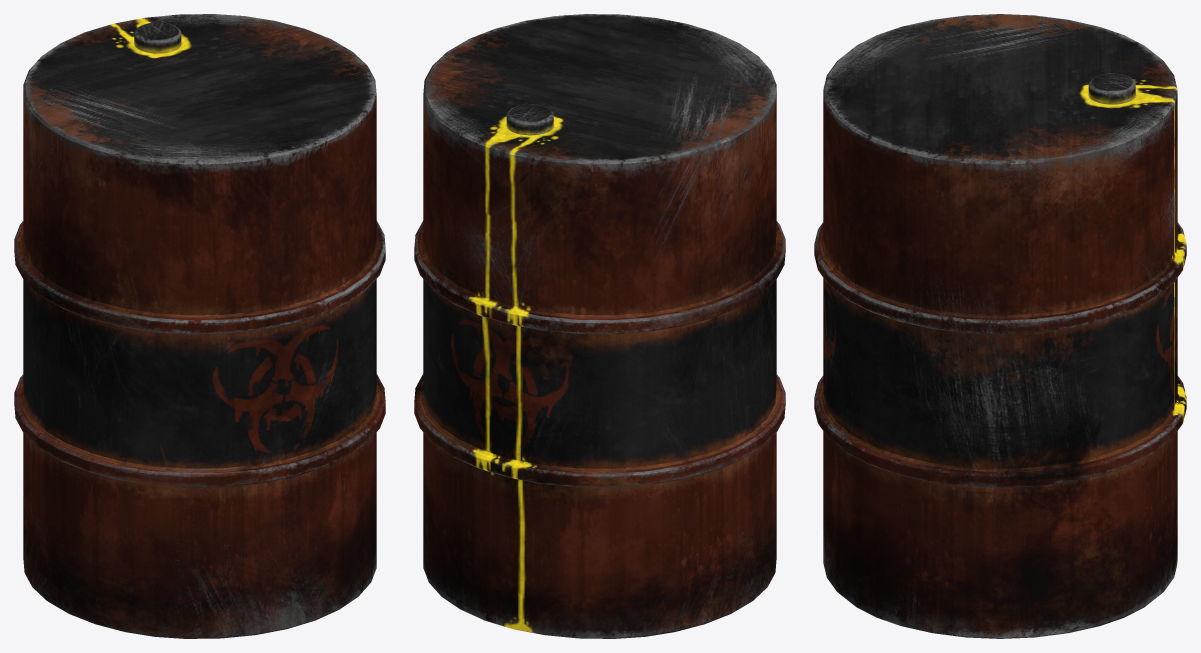
Rendered from rusty_barrel.glb.
3 renders of one model, left to right at view 1: azimuth 30°, elevation 25°; view 2: azimuth 150°, elevation 25°; view 3: azimuth 270°, elevation 25°, orthographic.
Visible parts, largest first — view 1: Barrel Bake_0; view 2: Barrel Bake_0; view 3: Barrel Bake_0.
Boxes of the visible parts, x1,y1,x2,y2 form: Barrel Bake_0: (14, 14, 385, 638); Barrel Bake_0: (414, 14, 785, 638); Barrel Bake_0: (814, 14, 1186, 638).
Size of the model in its own units: 0.6582 by 0.9546 by 0.6582.
1 material, 1 textured.
